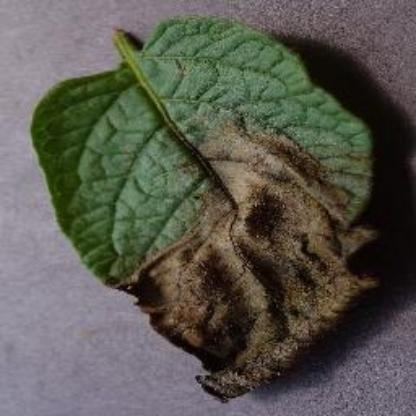Late-Blight: (10, 3, 392, 412)
